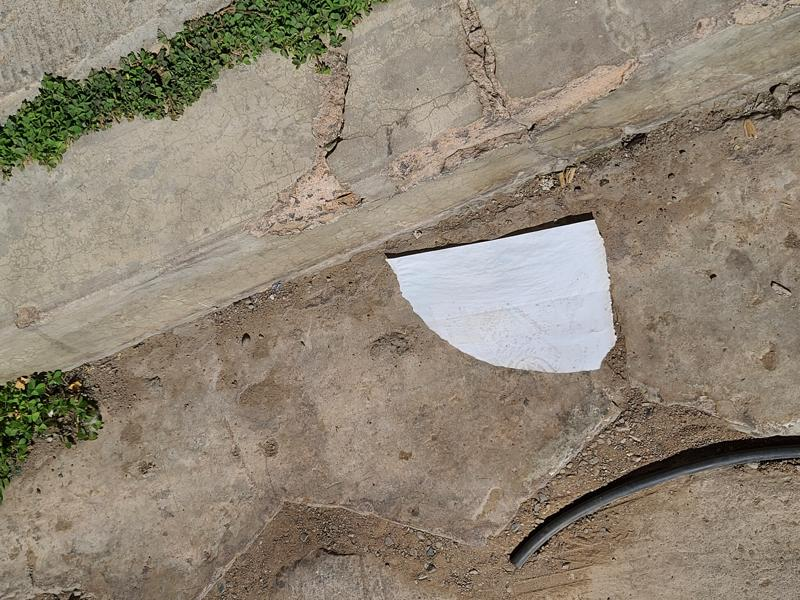papel: (384, 214, 618, 376)
